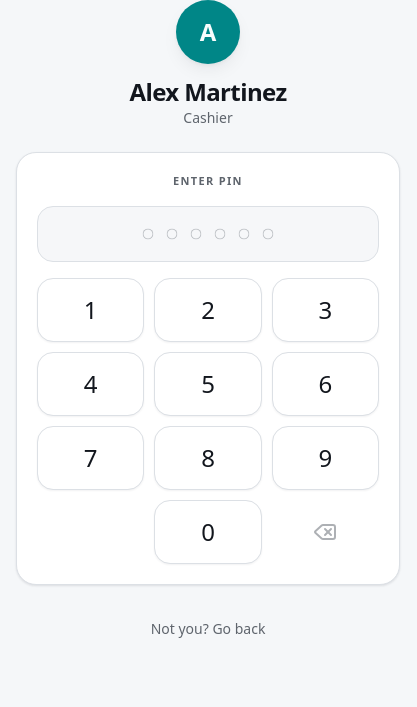
Test: PINLoginForm › forced_pin_change phase › is entered after a successful sign-in when mustChangePin is true, and hides "Not you? Go back"
Click the button "1" at (91, 310), box [37,278,144,342]
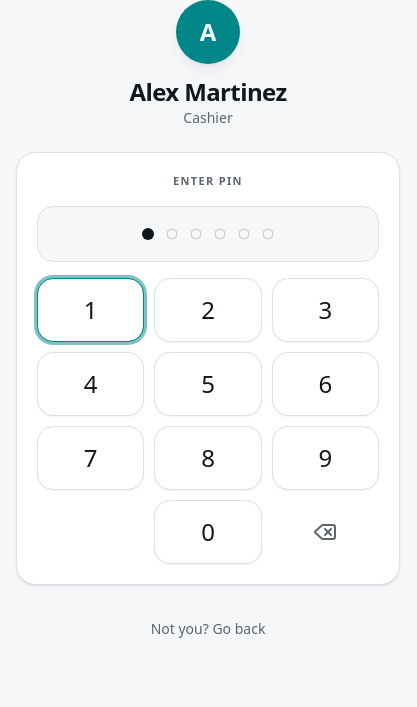
Click the button "1" at (91, 310), box [37,278,144,342]
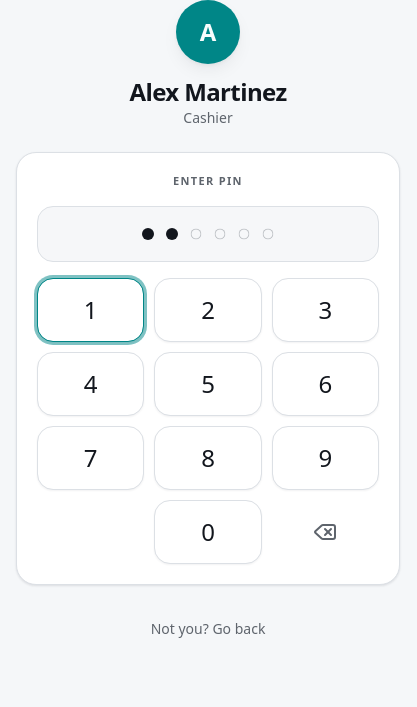
Click the button "1" at (91, 310), box [37,278,144,342]
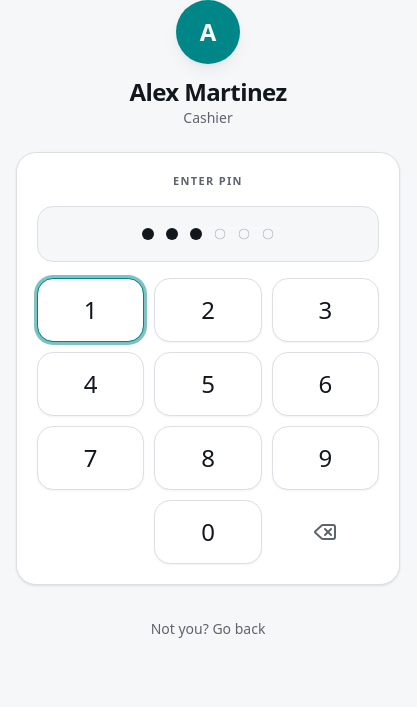
Click the button "1" at (91, 310), box [37,278,144,342]
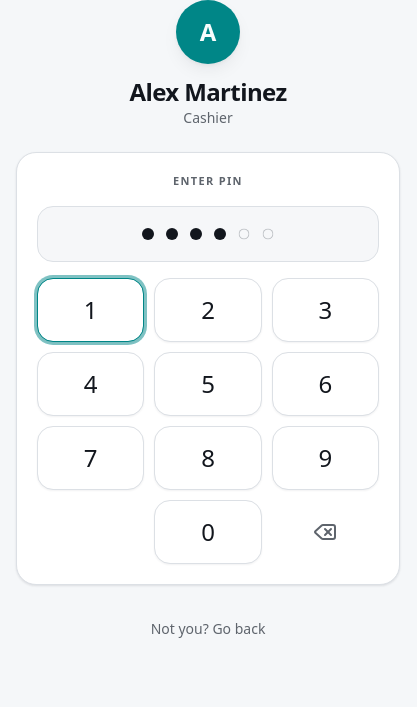
Click the button "1" at (91, 310), box [37,278,144,342]
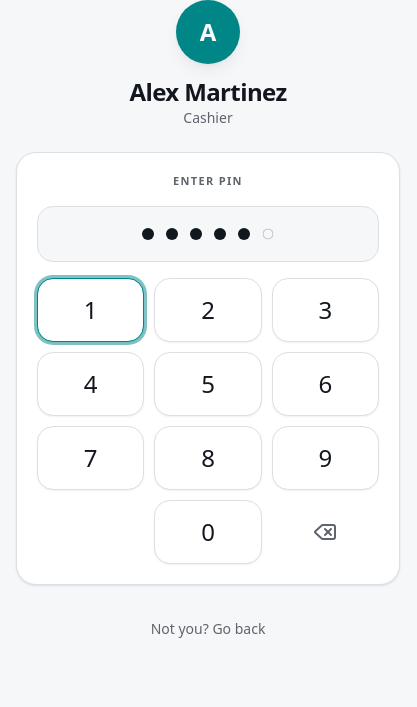
Click the button "1" at (91, 310), box [37,278,144,342]
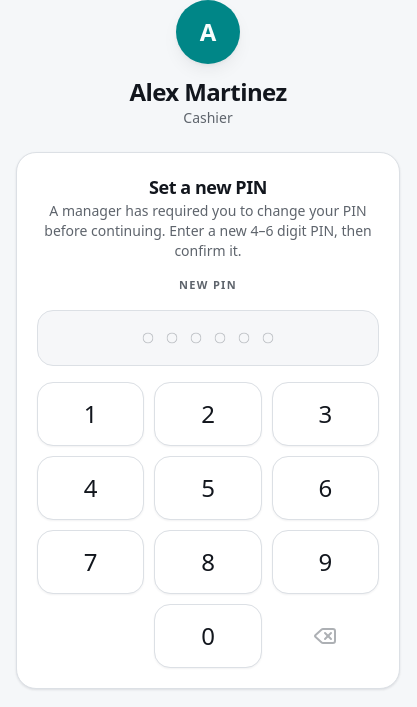
Check: the heading "Set a new PIN" is shown, box [149,175,267,199]
Check: the button "Not you? Go back" is gone
